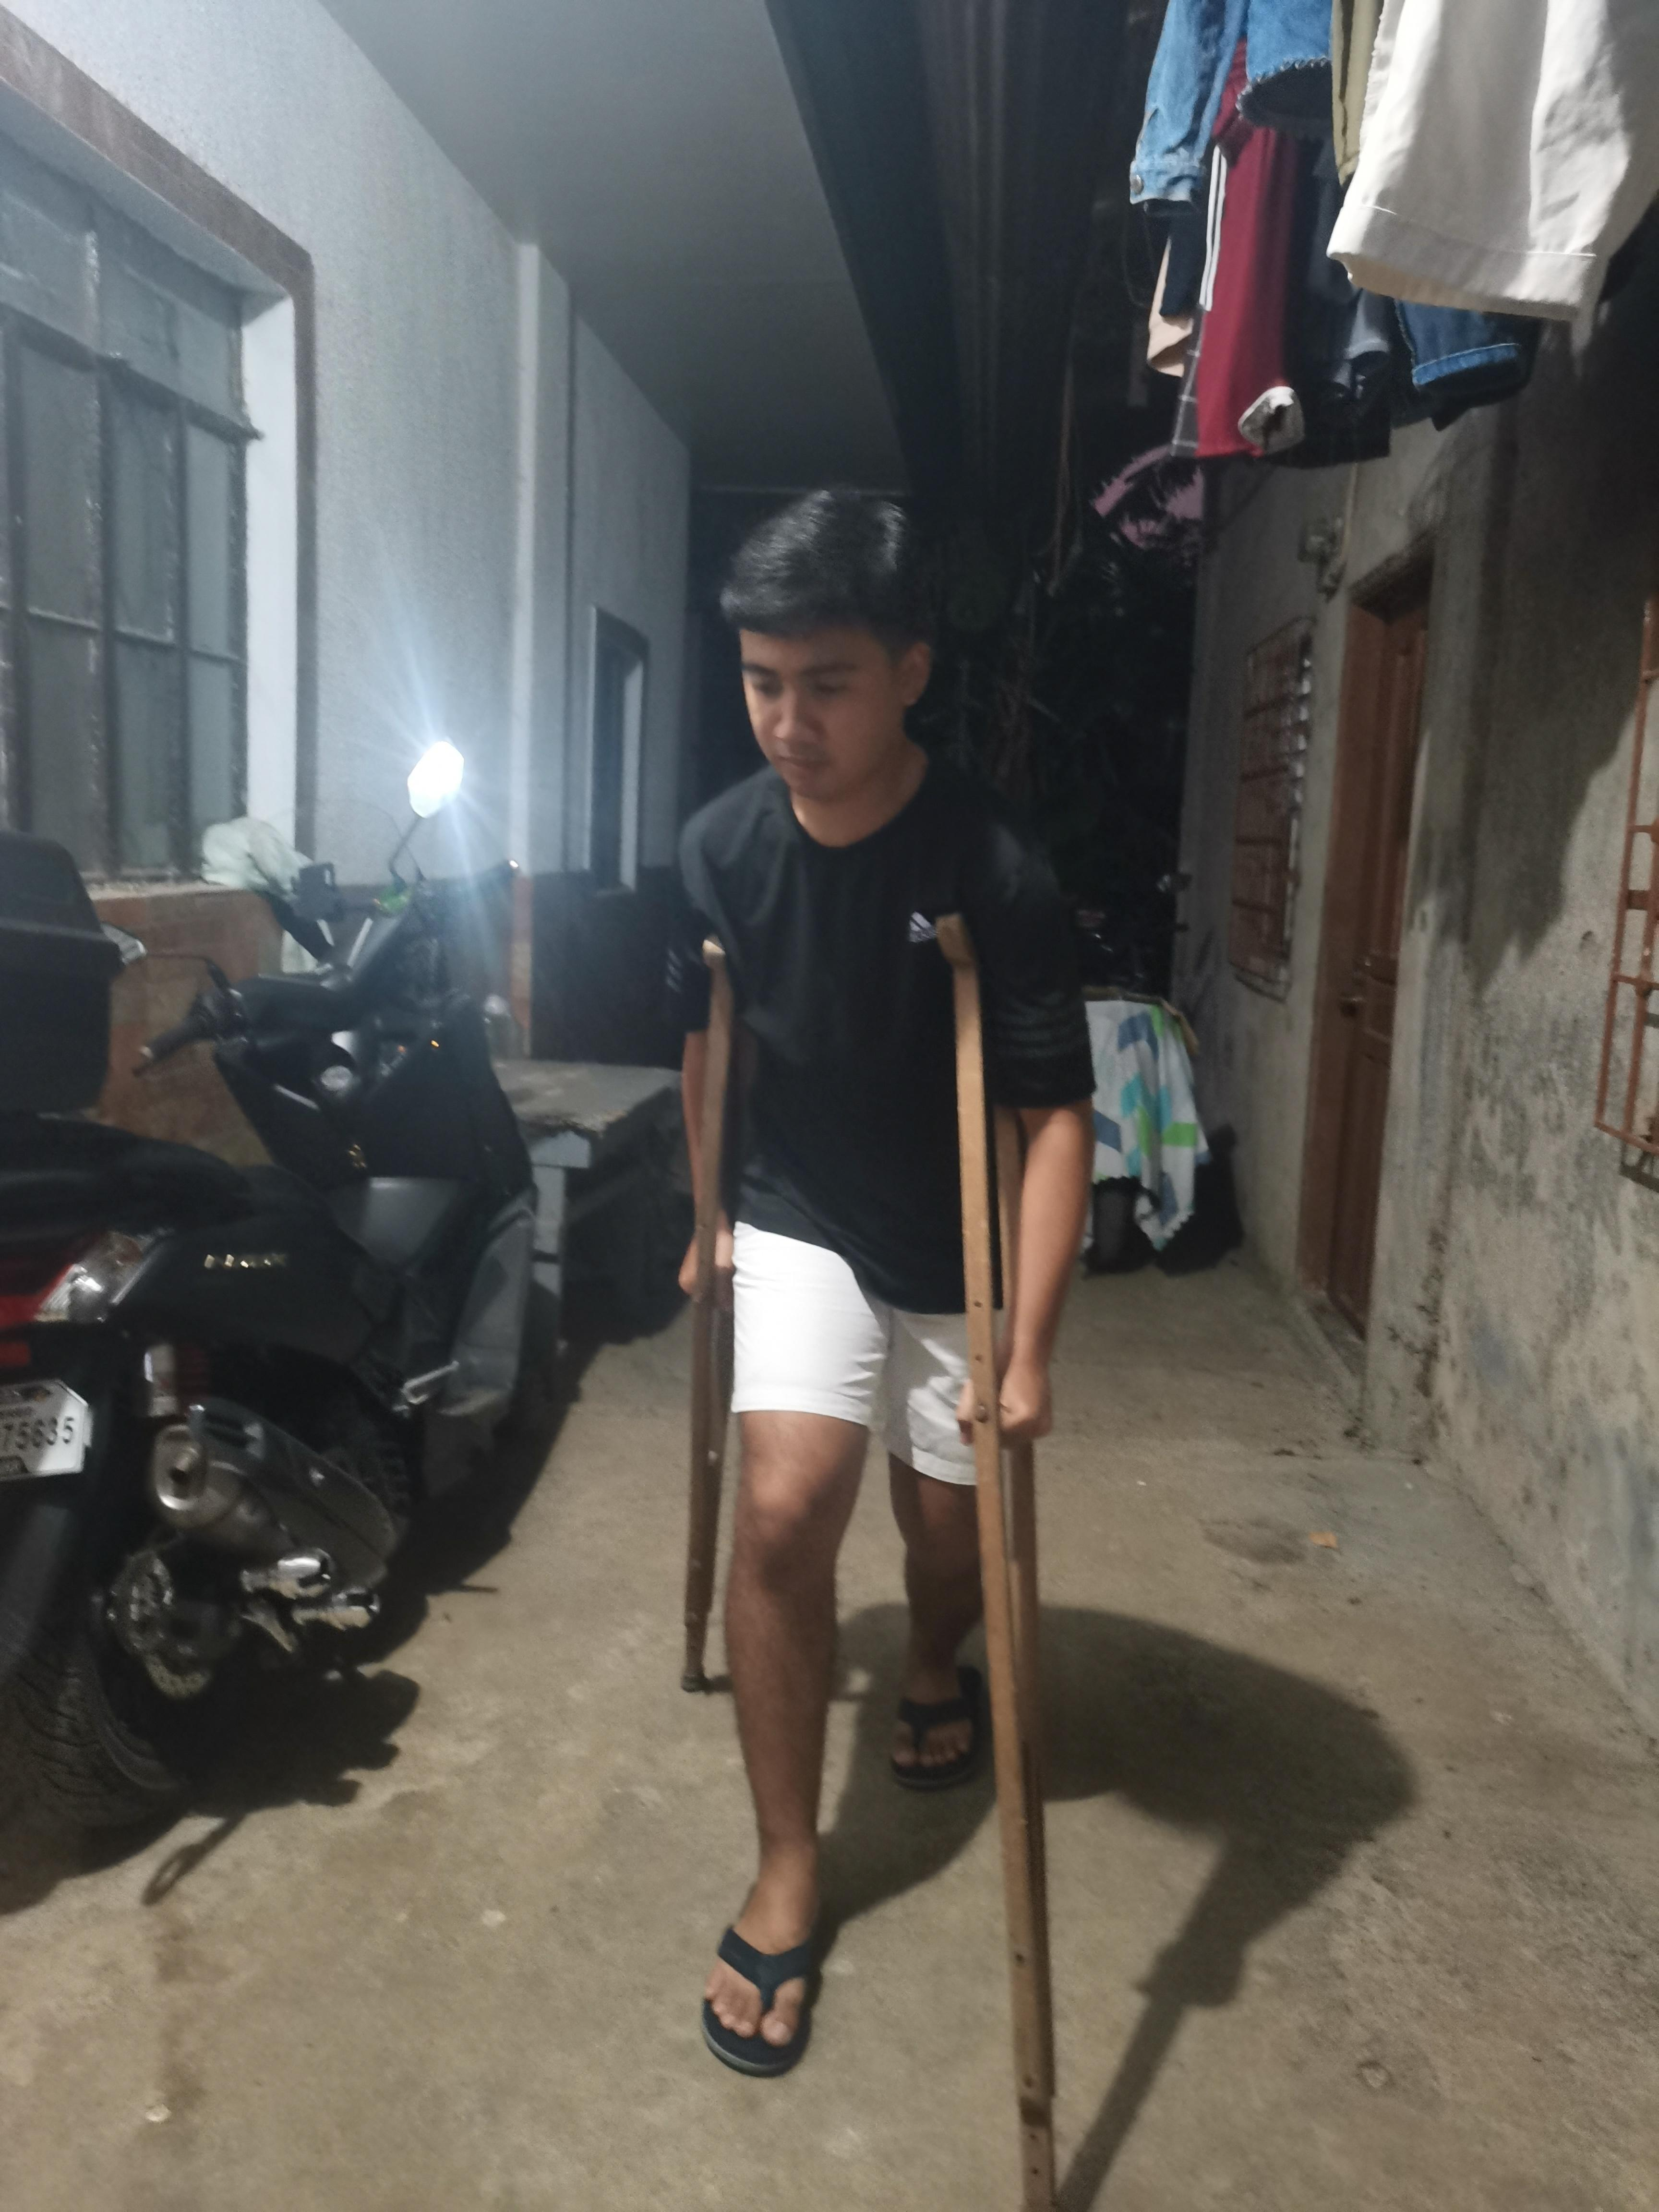crutches: (648, 472, 1117, 2212)
